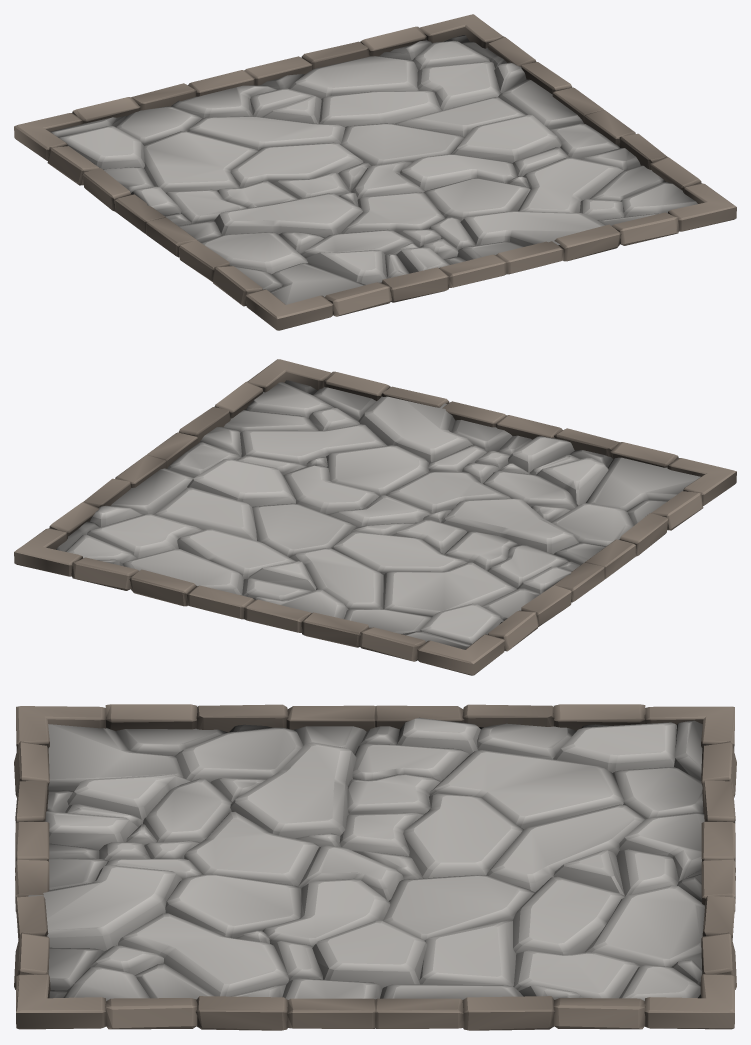
File: floor_stones_frame.FBX
3 views of the same model, one above another, from view 1: azimuth 30°, elevation 25°; view 2: azimuth 150°, elevation 25°; view 3: azimuth 270°, elevation 25° (orthographic). The views are drawn at different scales.
Parts seen in each view (by area): view 1: floor_stones_frame; view 2: floor_stones_frame; view 3: floor_stones_frame.
Boxes of the visible parts, <box> form: floor_stones_frame: <box>14,14,736,330</box>; floor_stones_frame: <box>14,359,736,675</box>; floor_stones_frame: <box>14,704,736,1030</box>.
Bounding box in the file's own units: 4.11 × 0.1567 × 4.08.
